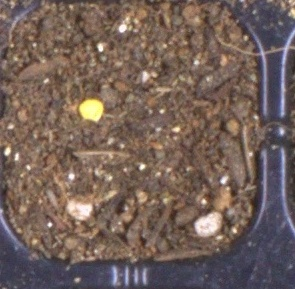chilli seed: (78, 98, 103, 122)
